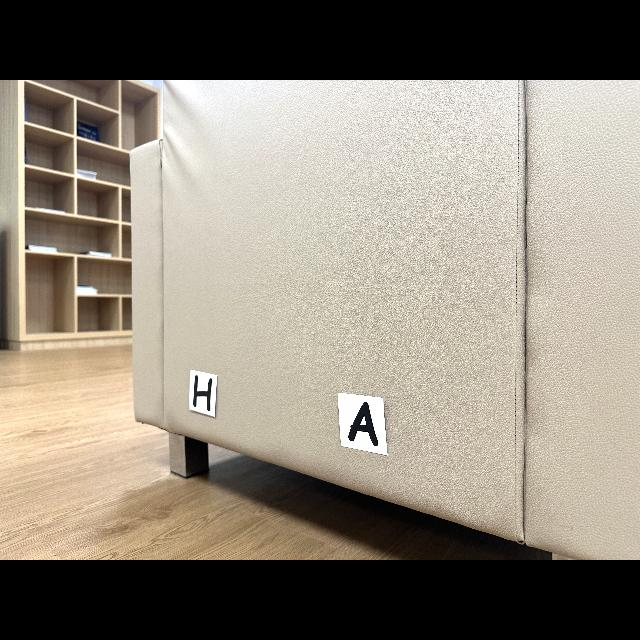A: (349, 402, 379, 446)
H: (192, 375, 212, 411)
